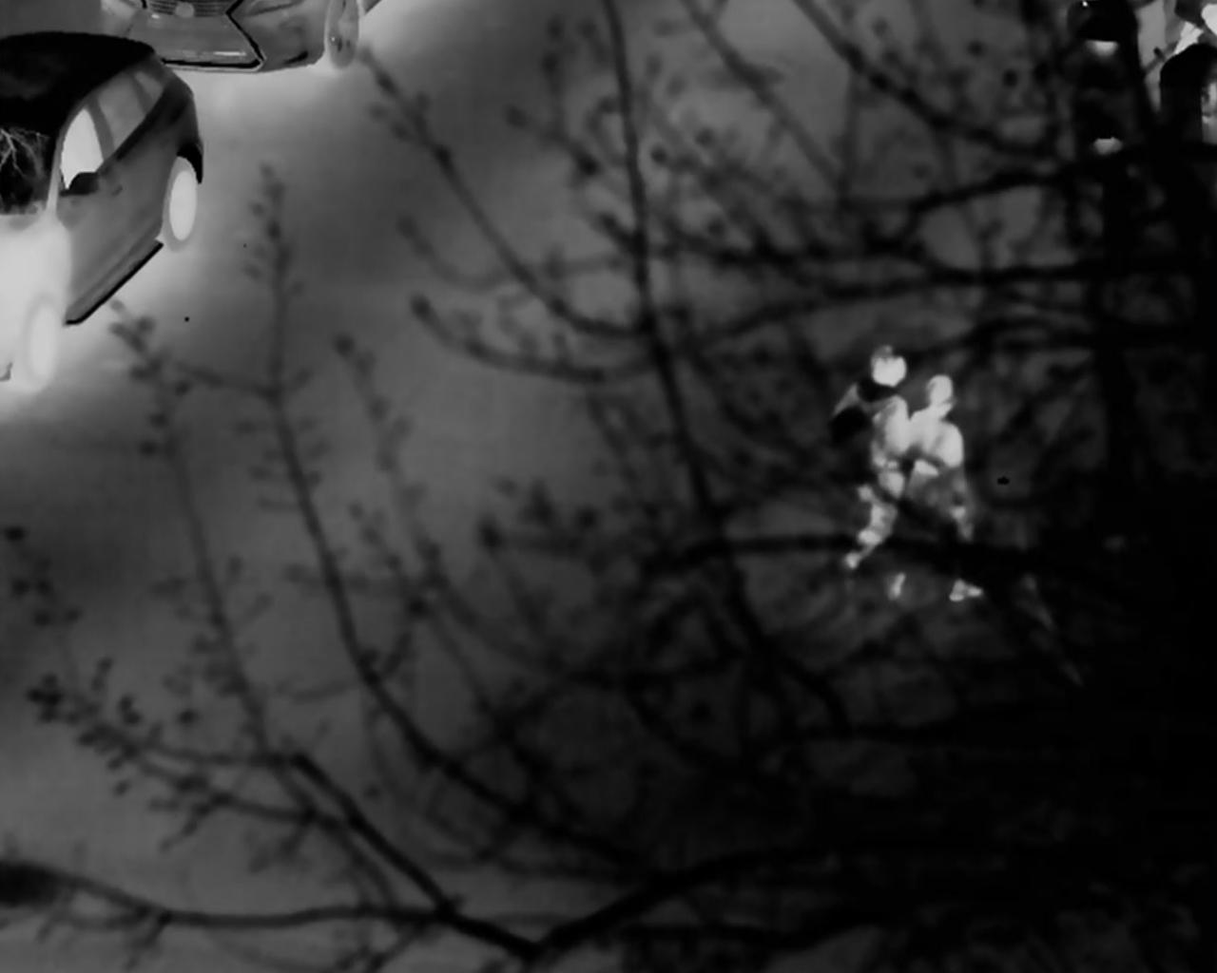person: (891, 372, 986, 612), (864, 327, 907, 552)
